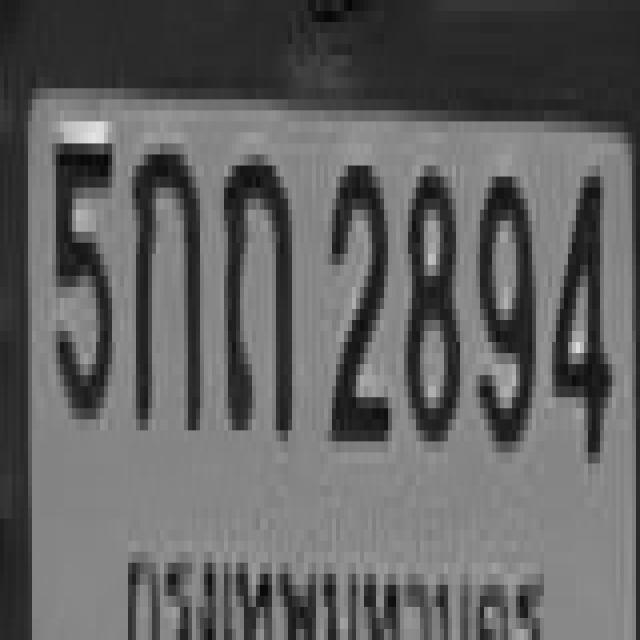10GorGai: (128, 133, 200, 420)
2: (328, 154, 384, 430)
31ThorThung: (220, 144, 288, 430)
4: (548, 154, 608, 452)
5: (52, 132, 108, 408)
8: (404, 154, 456, 430)
9: (476, 166, 532, 442)
